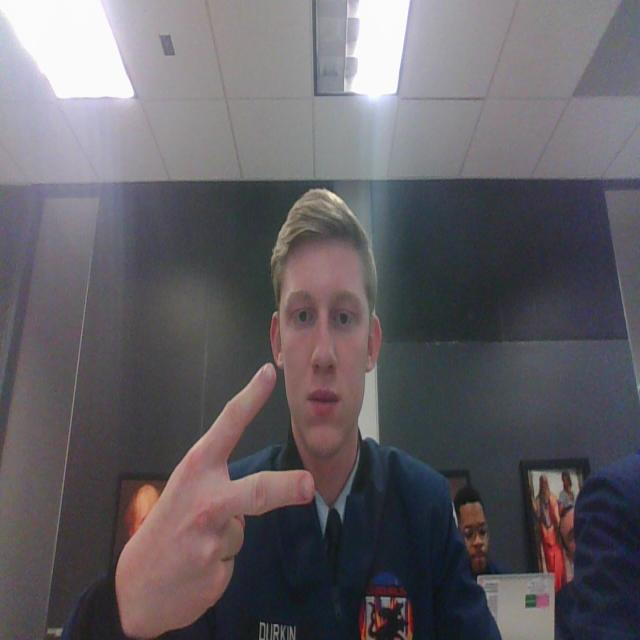scissors: (91, 357, 316, 640)
